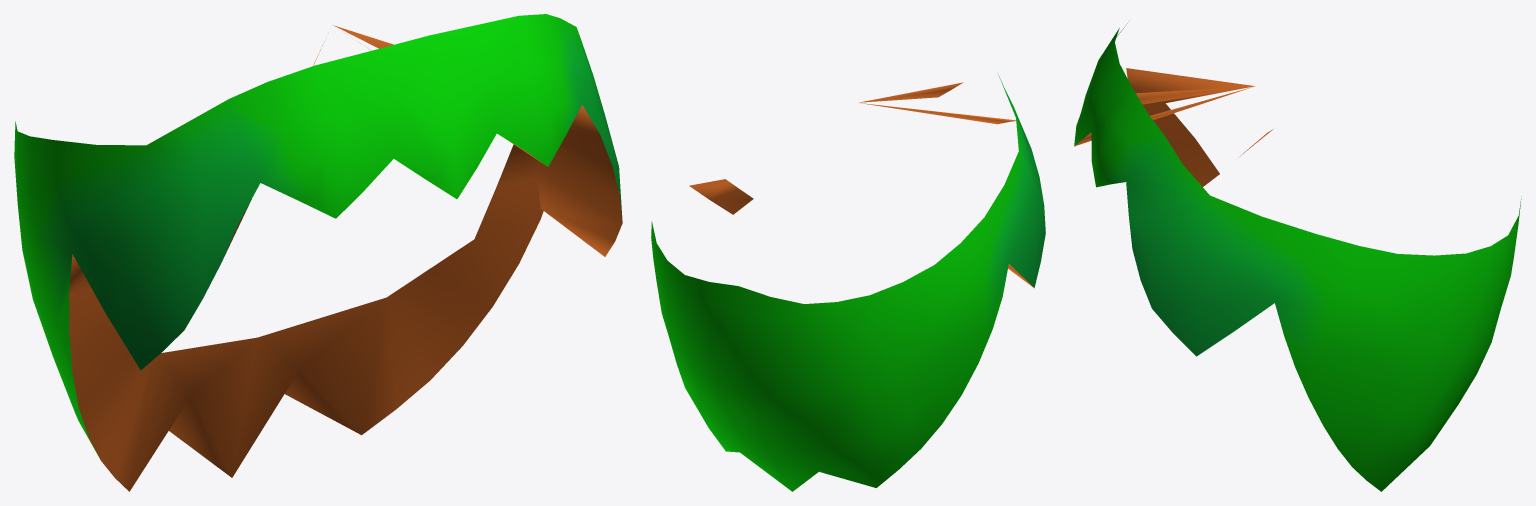
Rendered from Hair2_13.glb.
3 views of the same model, side by side, from view 1: azimuth 30°, elevation 25°; view 2: azimuth 150°, elevation 25°; view 3: azimuth 270°, elevation 25° (orthographic). The views are drawn at different scales.
Size of the model in its own units: 56.65 by 64.41 by 61.33.
